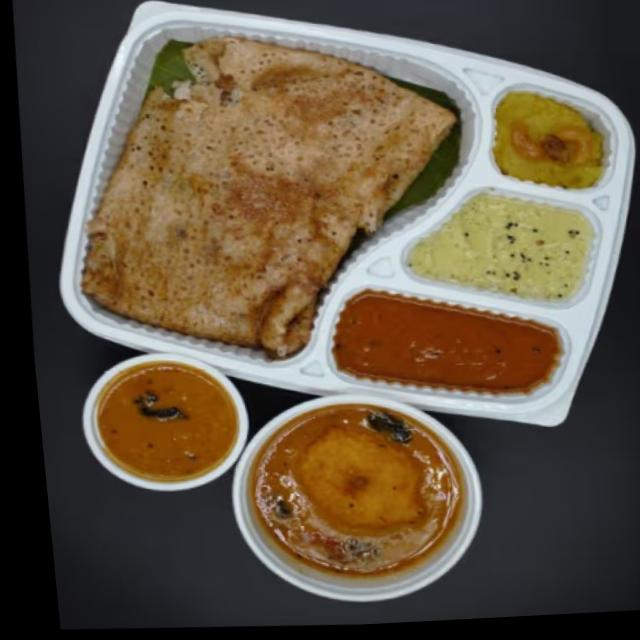DOSA: (89, 41, 450, 345)
RED CHUTNEY: (337, 295, 556, 397)
SAMBAR: (103, 363, 230, 481)
SWEET: (495, 97, 601, 186)
WHITE CHUTNEY: (410, 198, 581, 291)
